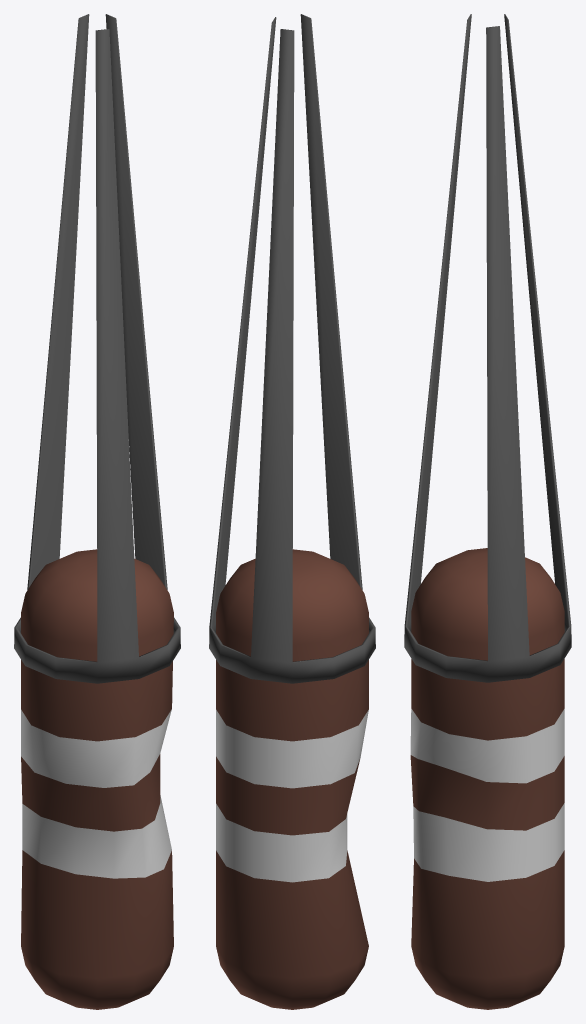
File: SandBag.fbx
3 renders of one model, left to right at view 1: azimuth 30°, elevation 25°; view 2: azimuth 150°, elevation 25°; view 3: azimuth 270°, elevation 25°, orthographic.
Parts seen in each view (by area): view 1: SandBag; view 2: SandBag; view 3: SandBag.
Part boxes in pixels (x1,y1,x2,y2): SandBag: (14, 14, 180, 1009); SandBag: (209, 14, 375, 1009); SandBag: (404, 14, 571, 1009).
Bounding box in the file's own units: 175 × 1128 × 175.
